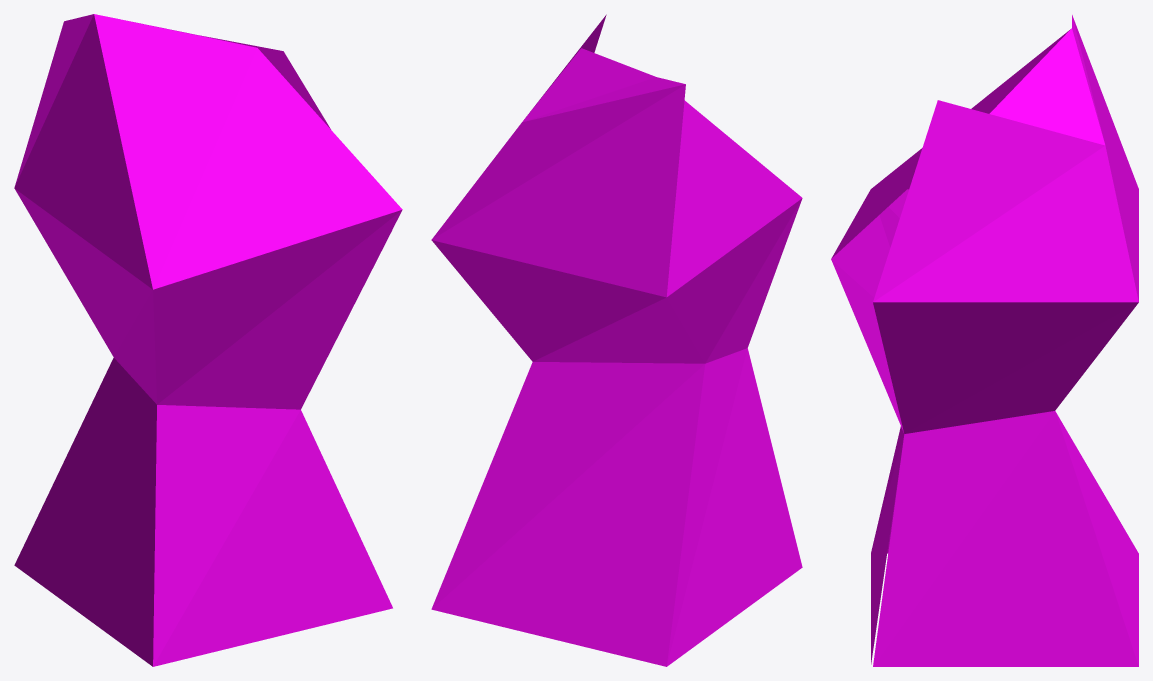
File: spellshock.obj
3 views of the same model, side by side, from view 1: azimuth 30°, elevation 25°; view 2: azimuth 150°, elevation 25°; view 3: azimuth 270°, elevation 25° (orthographic). The views are drawn at different scales.
Parts seen in each view (by area): view 1: spellshock_back; view 2: spellshock_back; view 3: spellshock_back.
Boxes of the visible parts, x1,y1,x2,y2 form: spellshock_back: (14, 14, 402, 666); spellshock_back: (431, 14, 802, 666); spellshock_back: (831, 15, 1138, 666).
Size of the model in its own units: 1.28 by 2.88 by 1.47.
